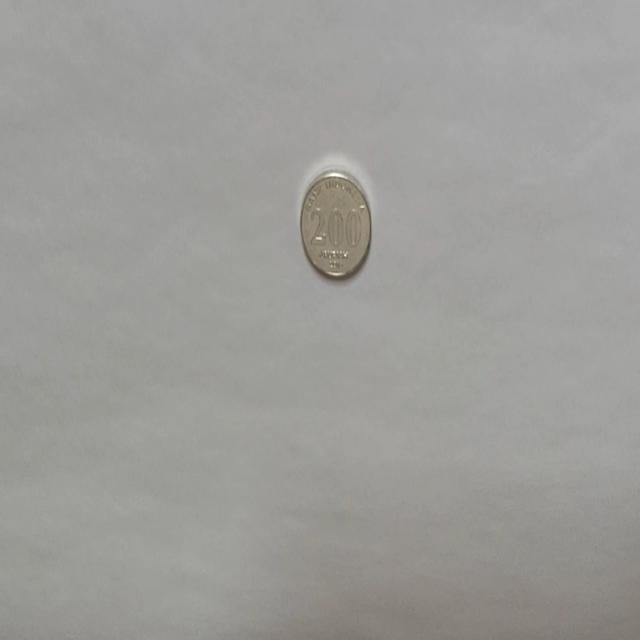dua ratus rupiah: (298, 167, 372, 280)
